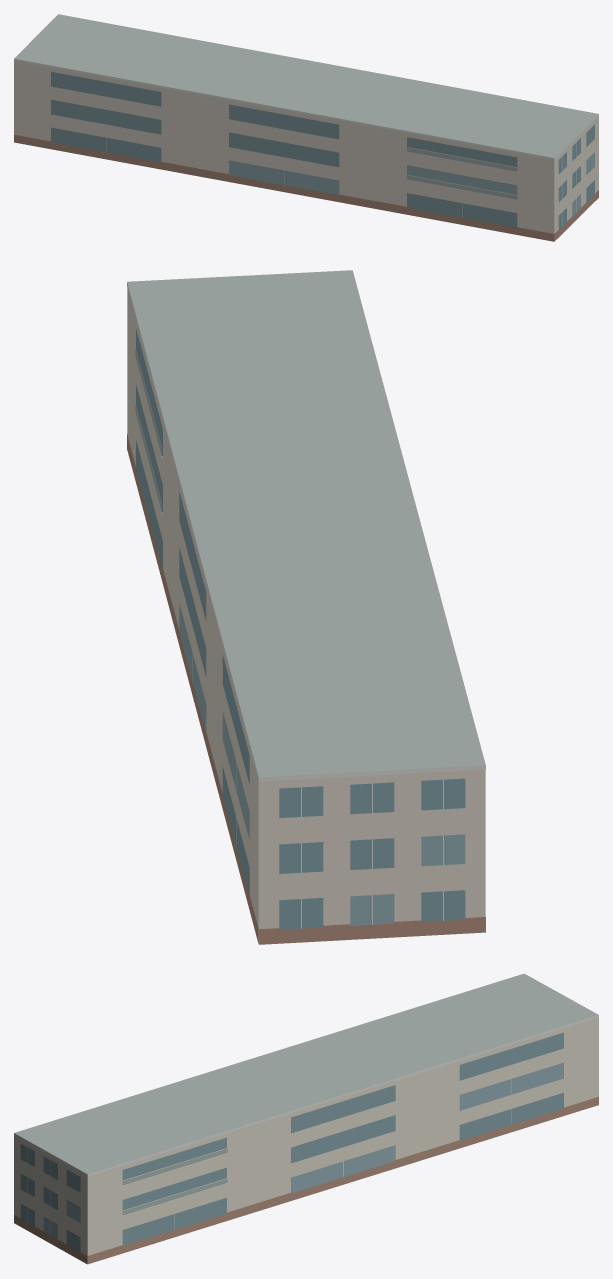
File: survey-upis-32754234.glb
3 renders of one model, top to bottom at view 1: azimuth 30°, elevation 25°; view 2: azimuth 150°, elevation 25°; view 3: azimuth 270°, elevation 25°, orthographic. The views are drawn at different scales.
Parts seen in each view (by area): view 1: survey-upis-32754234.tmp; view 2: survey-upis-32754234.tmp; view 3: survey-upis-32754234.tmp.
Part boxes in pixels (bbox=[...]): survey-upis-32754234.tmp: bbox=[14, 14, 598, 241]; survey-upis-32754234.tmp: bbox=[127, 270, 485, 944]; survey-upis-32754234.tmp: bbox=[14, 973, 598, 1264].
Bounding box in the file's own units: 43.71 × 9.15 × 53.8.
